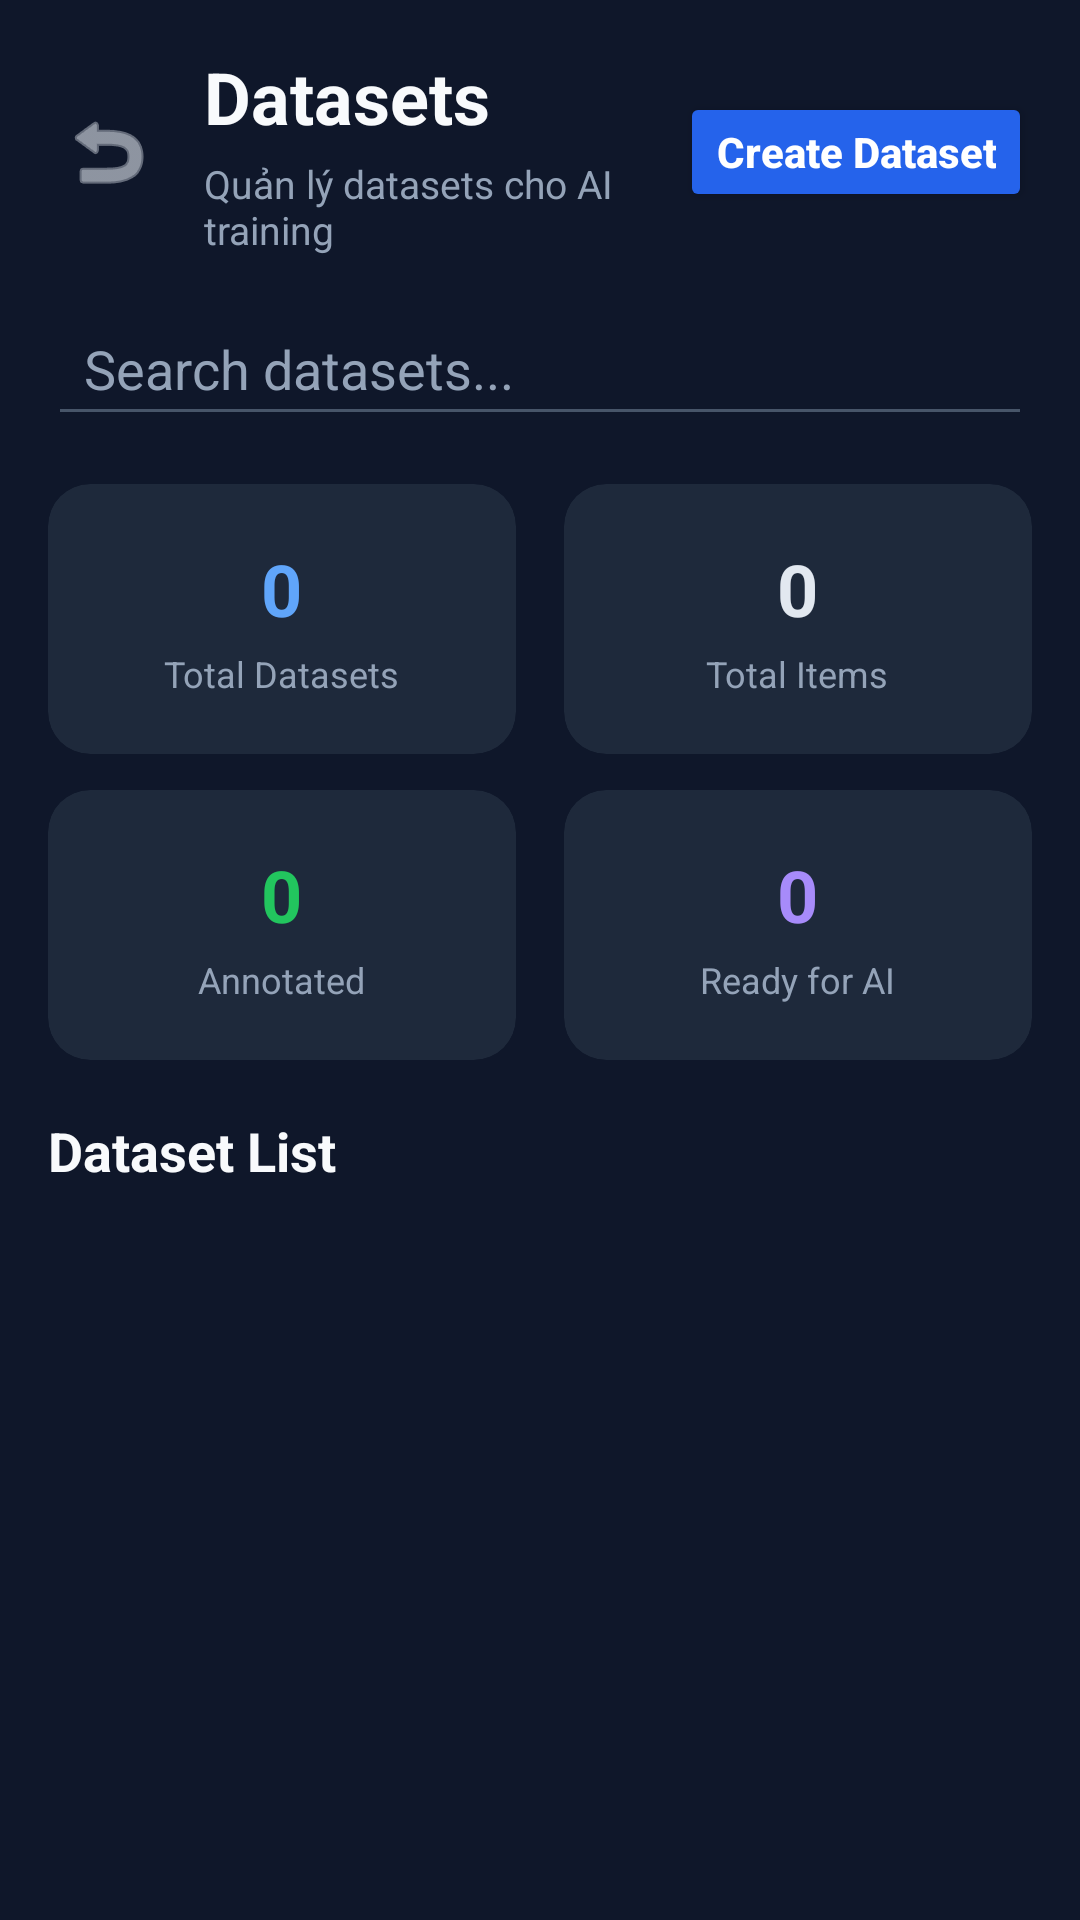

Point at icon controls on the screen. Image size 1080 x 1920, points as point (x, y).
revert: point (109, 152)
